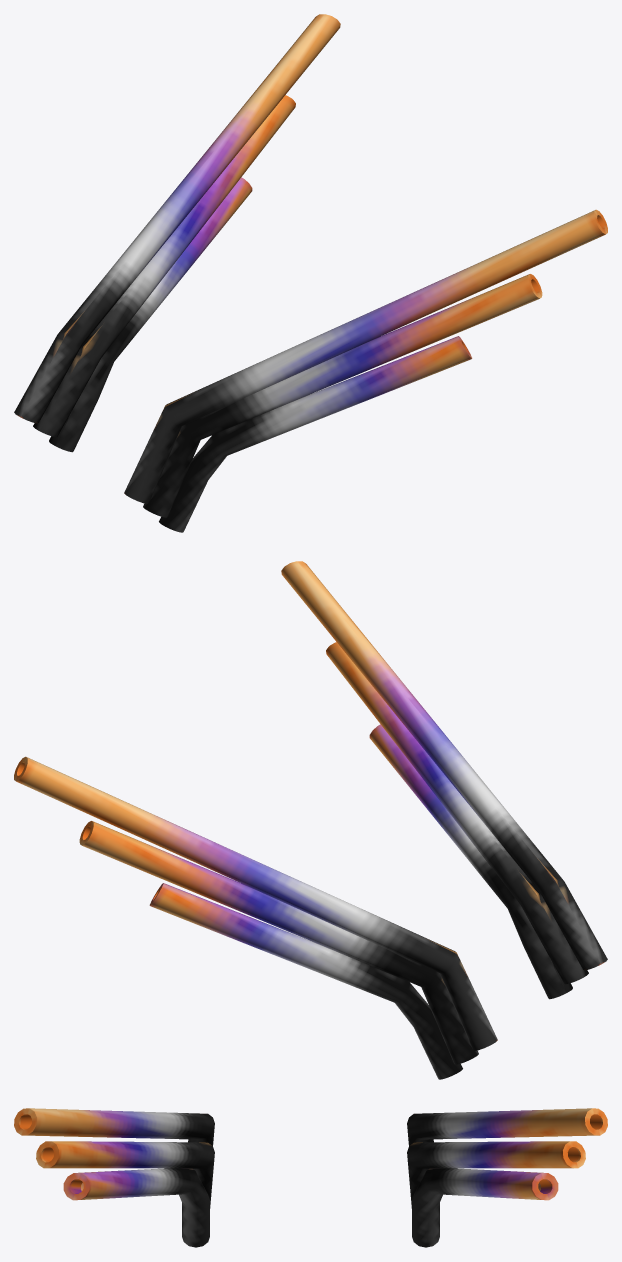
Rendered from angel_exhaust.fbx.
3 renders of one model, top to bottom at view 1: azimuth 30°, elevation 25°; view 2: azimuth 150°, elevation 25°; view 3: azimuth 270°, elevation 25°, orthographic. The views are drawn at different scales.
Visible parts, largest first — view 1: angel_exhaust; view 2: angel_exhaust; view 3: angel_exhaust.
Part boxes in pixels (x1,y1,x2,y2): angel_exhaust: (14,14,607,532); angel_exhaust: (14,561,607,1079); angel_exhaust: (14,1108,607,1247).
Size of the model in its own units: 309 by 217 by 378.
